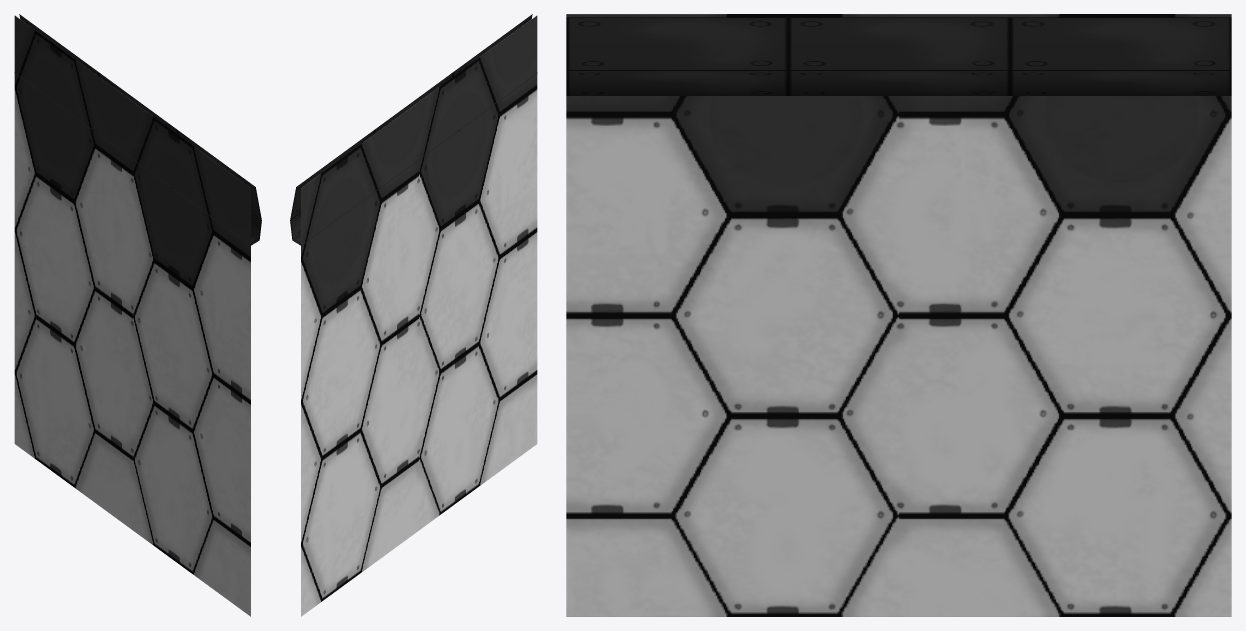
The model's file is Wall_Top.fbx.
3 views of the same model, side by side, from view 1: azimuth 30°, elevation 25°; view 2: azimuth 150°, elevation 25°; view 3: azimuth 270°, elevation 25° (orthographic). The views are drawn at different scales.
Visible parts, largest first — view 1: pPlane134; view 2: pPlane134; view 3: pPlane134.
Part boxes in pixels (box(x1,y1,x2,y2)): pPlane134: box(14, 14, 261, 616); pPlane134: box(290, 14, 537, 616); pPlane134: box(566, 14, 1231, 616).
Bounding box in the file's own units: 0.0554 × 2 × 2.
